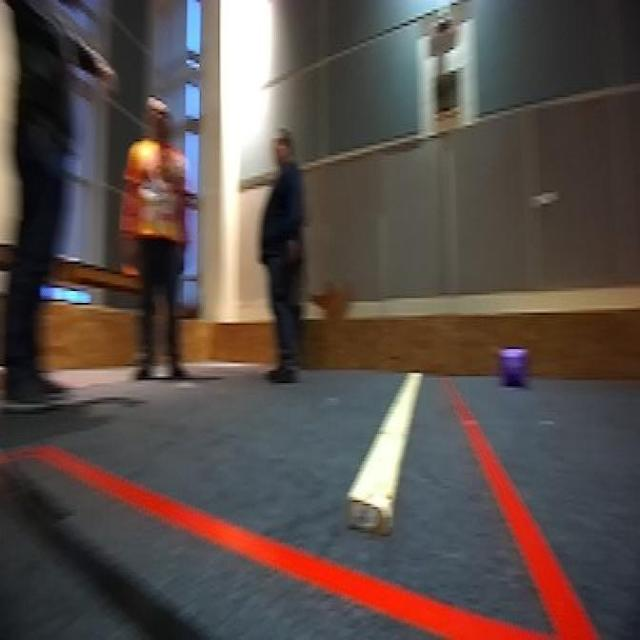frc_cube: (500, 346, 528, 386)
